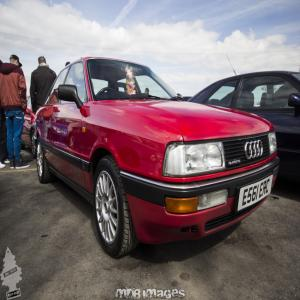Vehicle-registration-plate: (238, 176, 274, 212)
